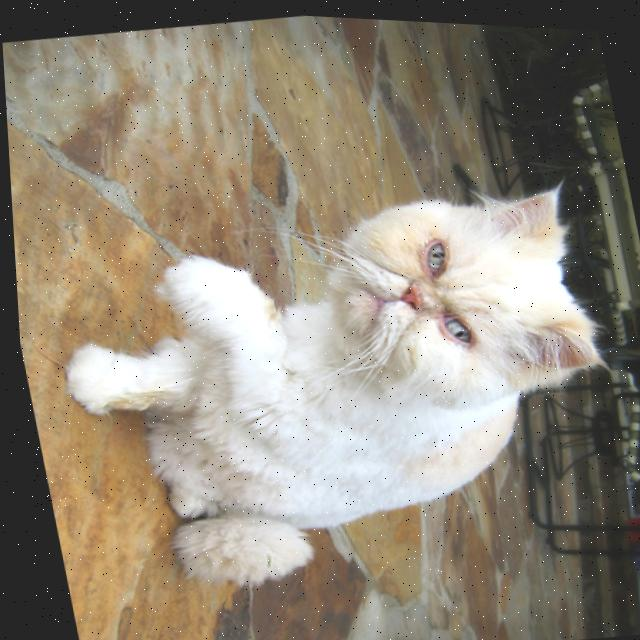Persian: (24, 150, 640, 621)
